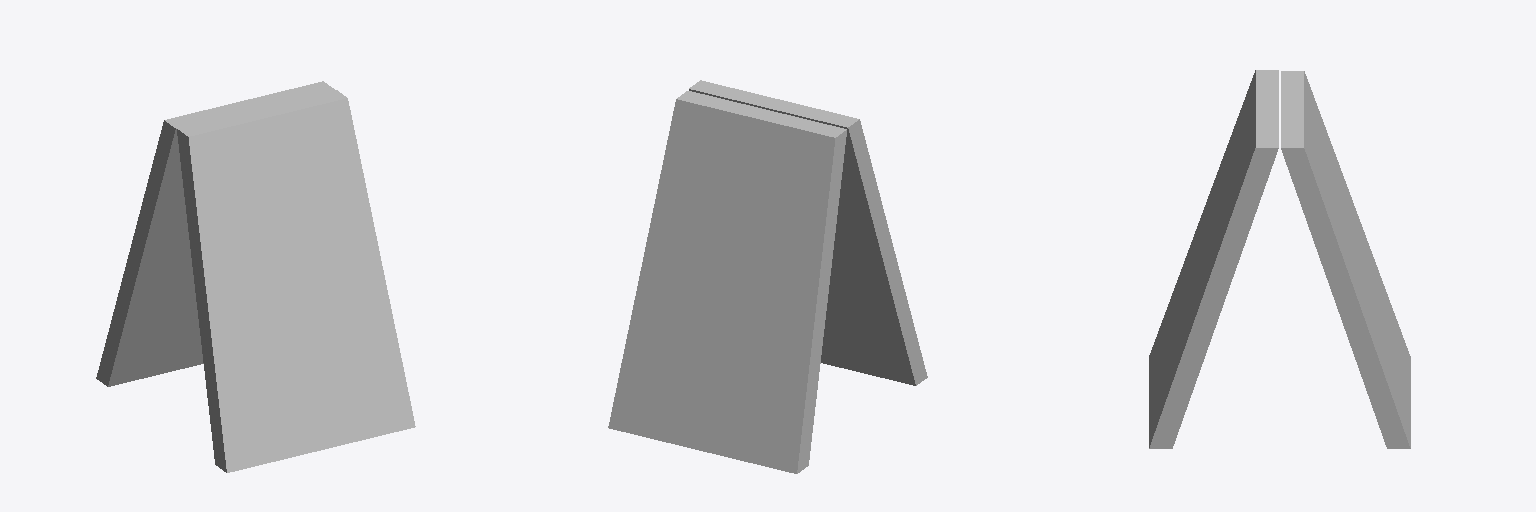
Rendered from obstacle_11.obj.
The picture shows the model from 3 angles: view 1: azimuth 30°, elevation 25°; view 2: azimuth 150°, elevation 25°; view 3: azimuth 270°, elevation 25°; orthographic projection.
Visible parts, largest first — view 1: Cube_Cube.009; view 2: Cube_Cube.009; view 3: Cube_Cube.009.
Part boxes in pixels (x1,y1,x2,y2): Cube_Cube.009: (96, 81, 415, 472); Cube_Cube.009: (608, 80, 927, 473); Cube_Cube.009: (1149, 70, 1410, 448).
Bounding box in the file's own units: 1.45 × 2.17 × 1.74.